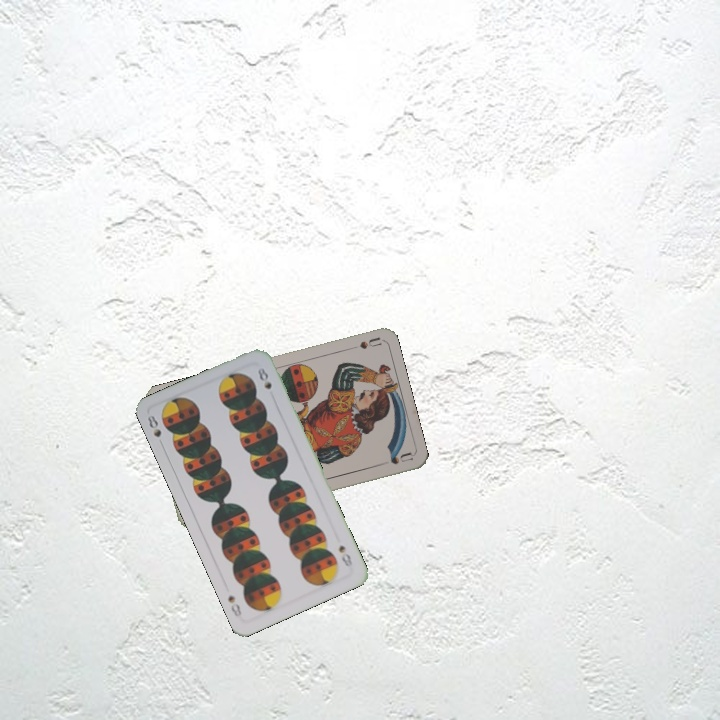S8: (143, 411, 166, 450), (334, 541, 355, 569)
SU: (342, 333, 383, 353)
